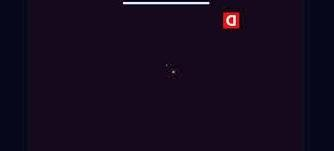Plane: (152, 55, 189, 82)
